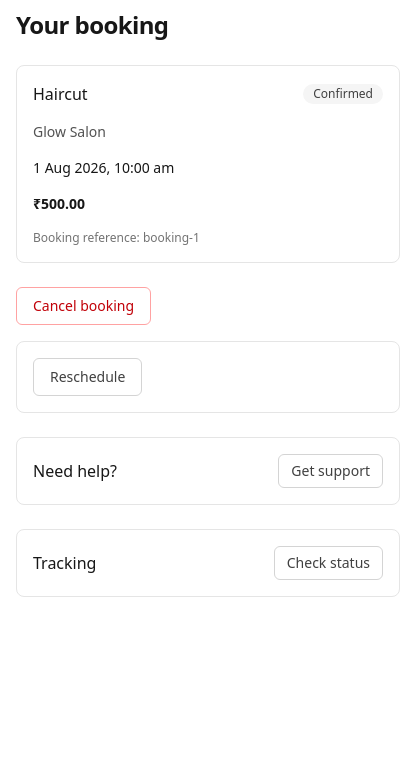
BookingStatusPage › shows a failure state with retry when rescheduling fails
The image size is (417, 777).
Click the button "Reschedule" at (88, 377), box [33,358,142,396]
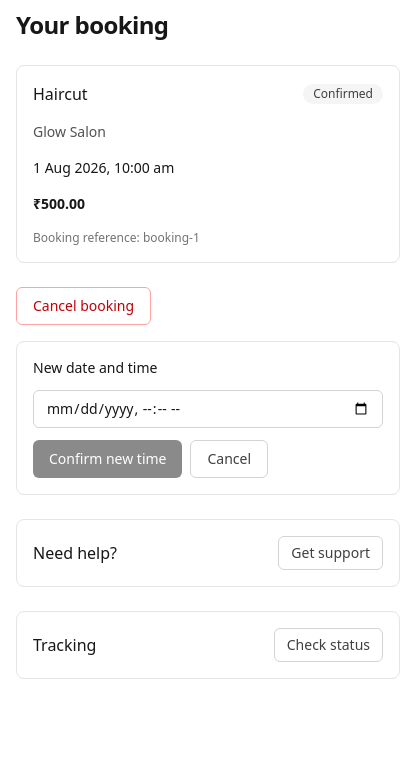
Type "2026-08-05T11:00" into the field labelled "New date and time" at (208, 409), box [33,390,383,428]
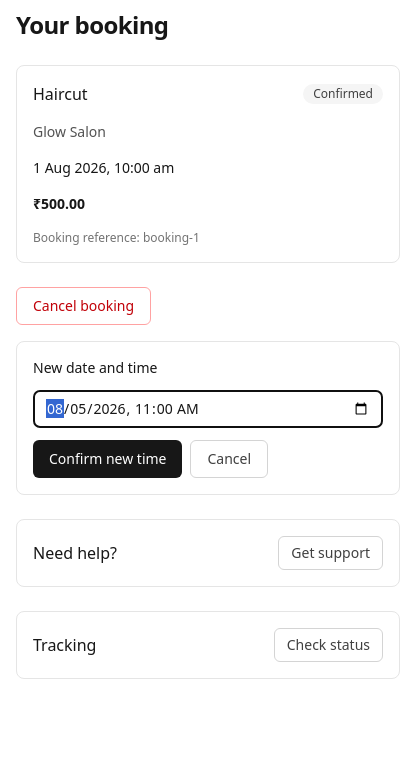
Click the button "Confirm new time" at (108, 459), box [33,440,182,478]
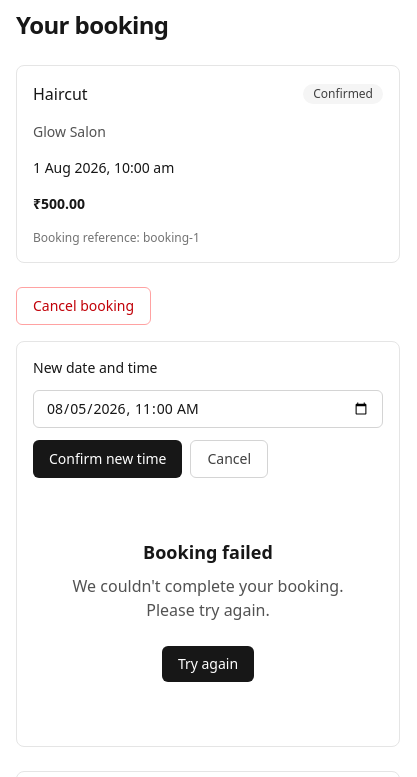
Expected: the heading "Booking failed" is shown, [143,538,273,566]
